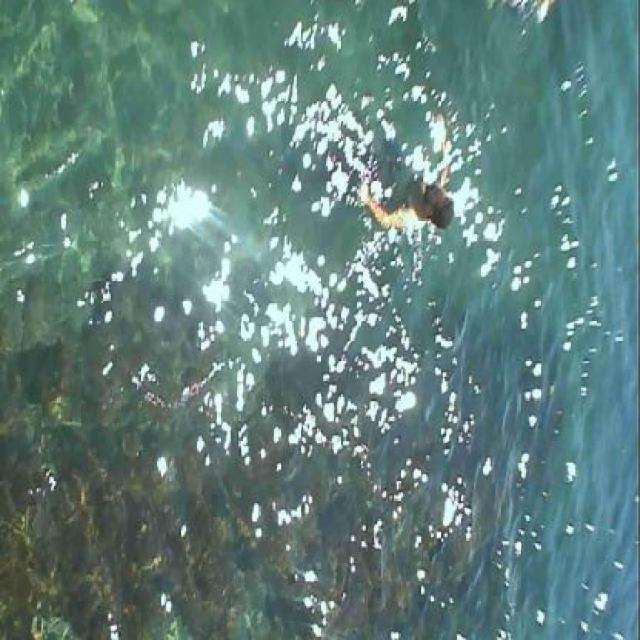swimming: (355, 108, 455, 243)
